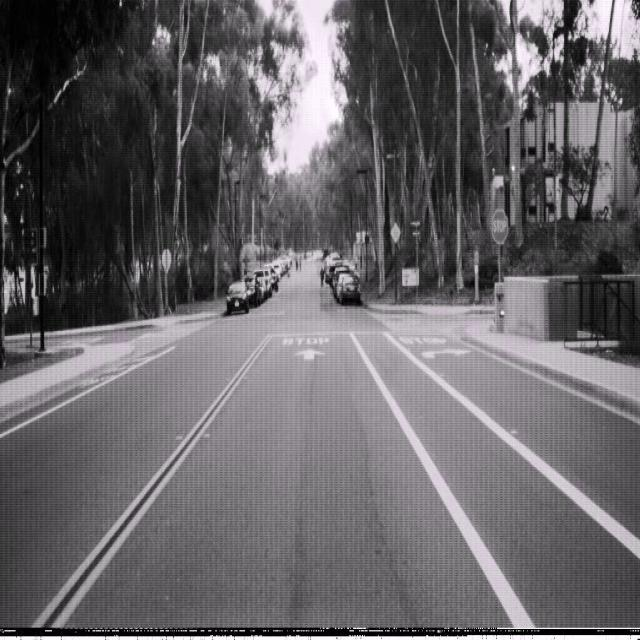stop: (491, 208, 508, 246)
